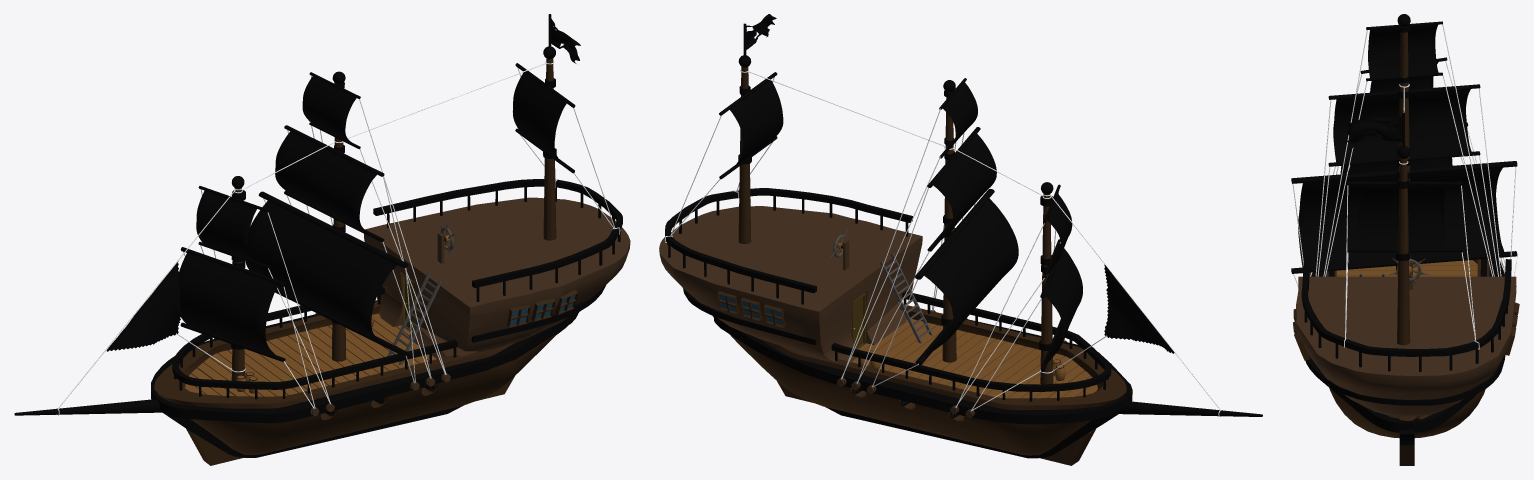
File: pirate.glb
3 views of the same model, side by side, from view 1: azimuth 30°, elevation 25°; view 2: azimuth 150°, elevation 25°; view 3: azimuth 270°, elevation 25° (orthographic). The views are drawn at different scales.
Parts seen in each view (by area): view 1: Polygon_Reduction_1; view 2: Polygon_Reduction_1; view 3: Polygon_Reduction_1.
Boxes of the visible parts, x1,y1,x2,y2 form: Polygon_Reduction_1: (14,14,630,465); Polygon_Reduction_1: (659,14,1262,465); Polygon_Reduction_1: (1291,14,1519,465).
Size of the model in its own units: 6 by 3.56 by 1.93.
